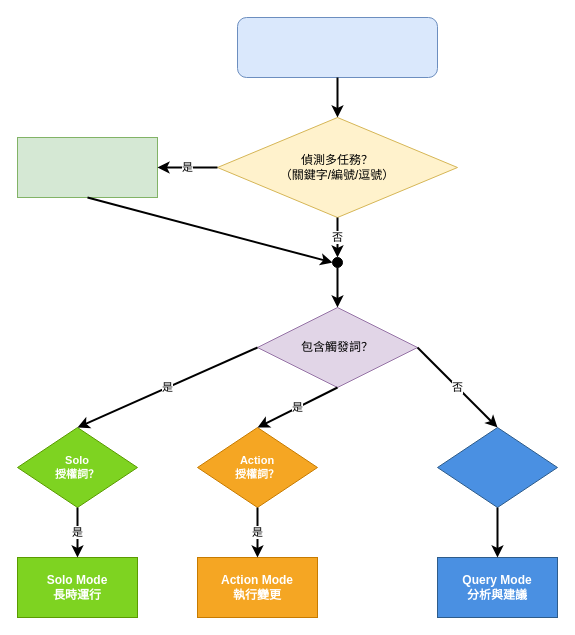
This 575x635 diagram has some shape labels left out. Each missing label, with the box of its shape:
使用者輸入: (236, 16, 438, 78)
讀取/更新 TASK_TRACKER.md: (16, 136, 158, 198)
預設 Query: (436, 426, 558, 508)
